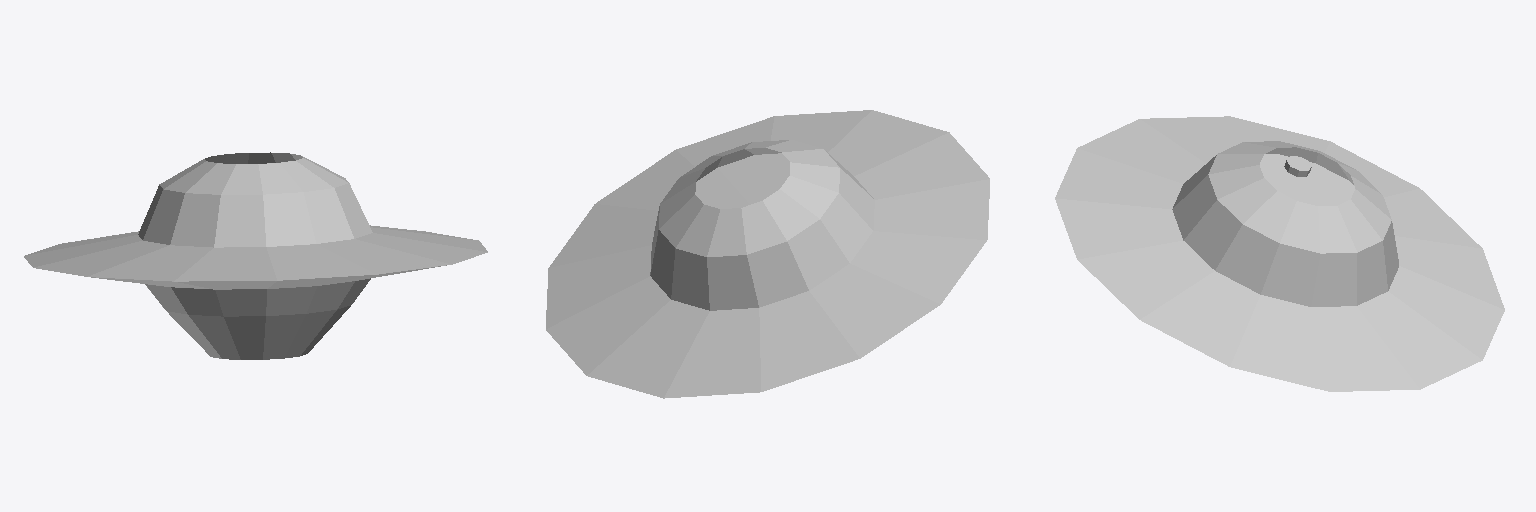
File: planet.obj
3 renders of one model, left to right at view 1: azimuth 30°, elevation 25°; view 2: azimuth 150°, elevation 25°; view 3: azimuth 270°, elevation 25°, orthographic.
Visible parts, largest first — view 1: Cylinder.001; view 2: Cylinder.001; view 3: Cylinder.001.
Part boxes in pixels (bbox=[...]): Cylinder.001: bbox=[24, 152, 487, 359]; Cylinder.001: bbox=[546, 110, 989, 398]; Cylinder.001: bbox=[1055, 116, 1504, 391].
Size of the model in its own units: 5.07 by 2.42 by 4.99.